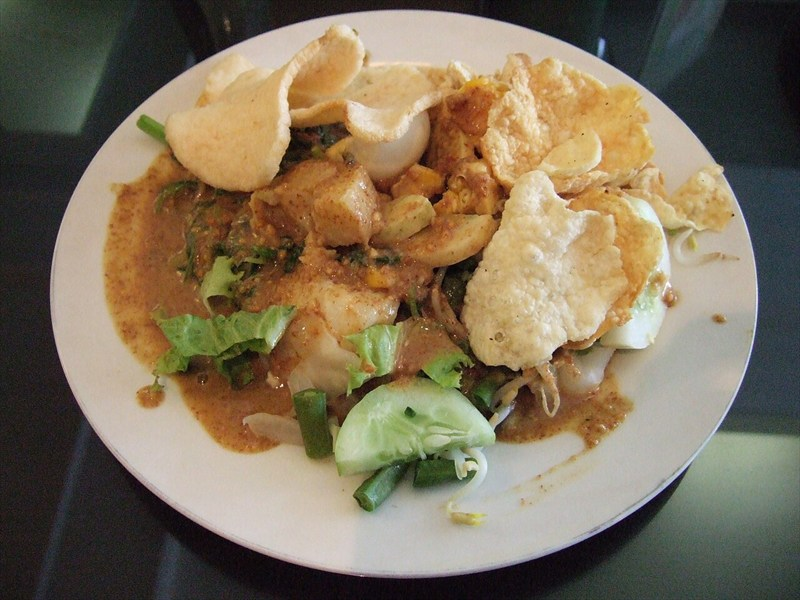Gado-Gado: (112, 39, 693, 506)
